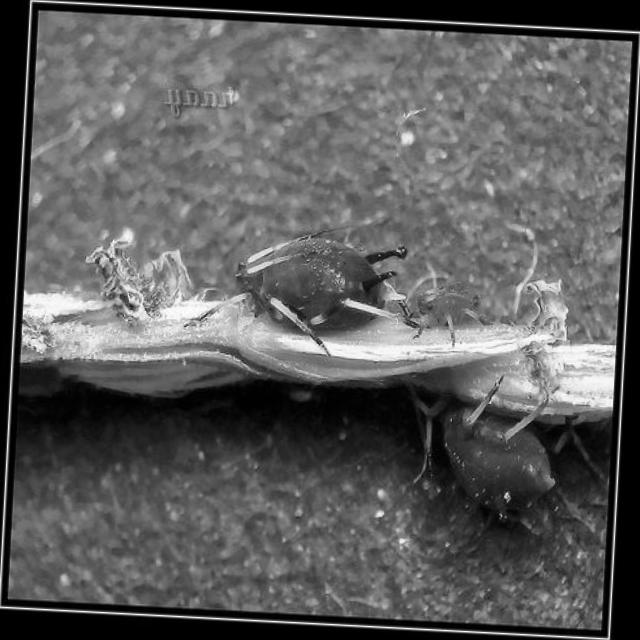Aphids: (222, 210, 423, 360), (419, 361, 558, 542)
